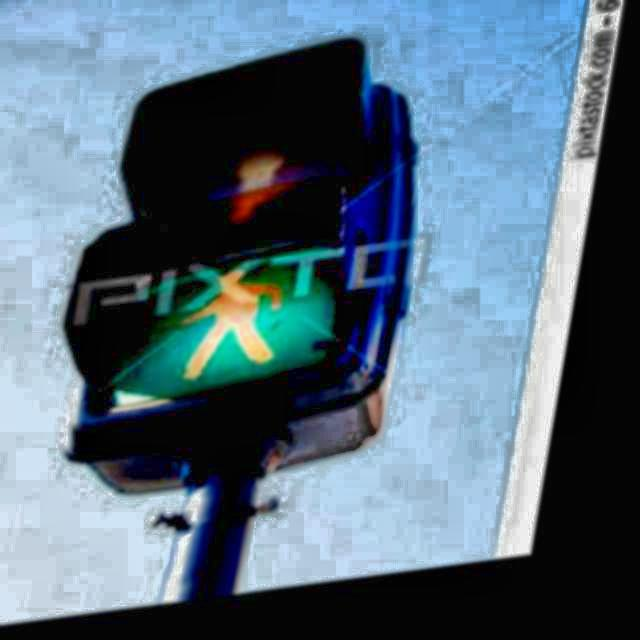semaforo pedestre: (0, 15, 479, 532)
